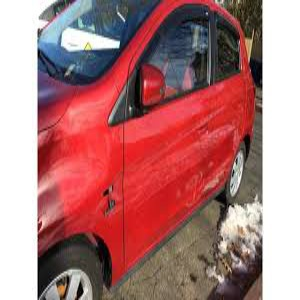door_scratch: (105, 116, 229, 202)
